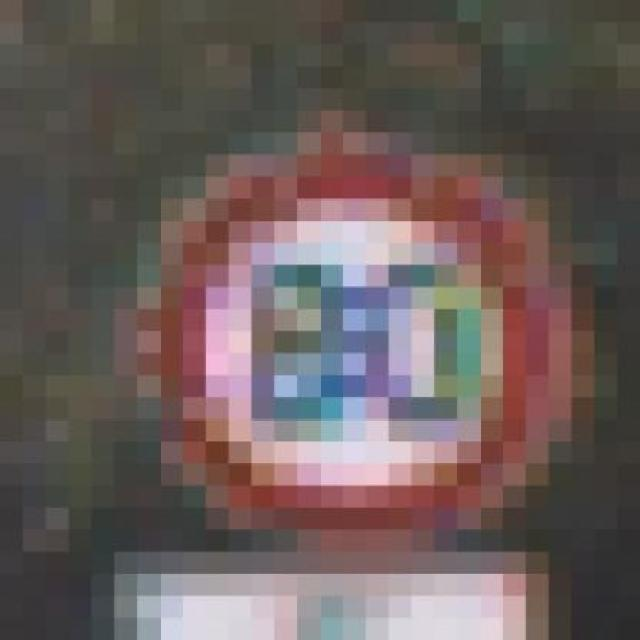forb_speed_over_80: (158, 151, 559, 529)
